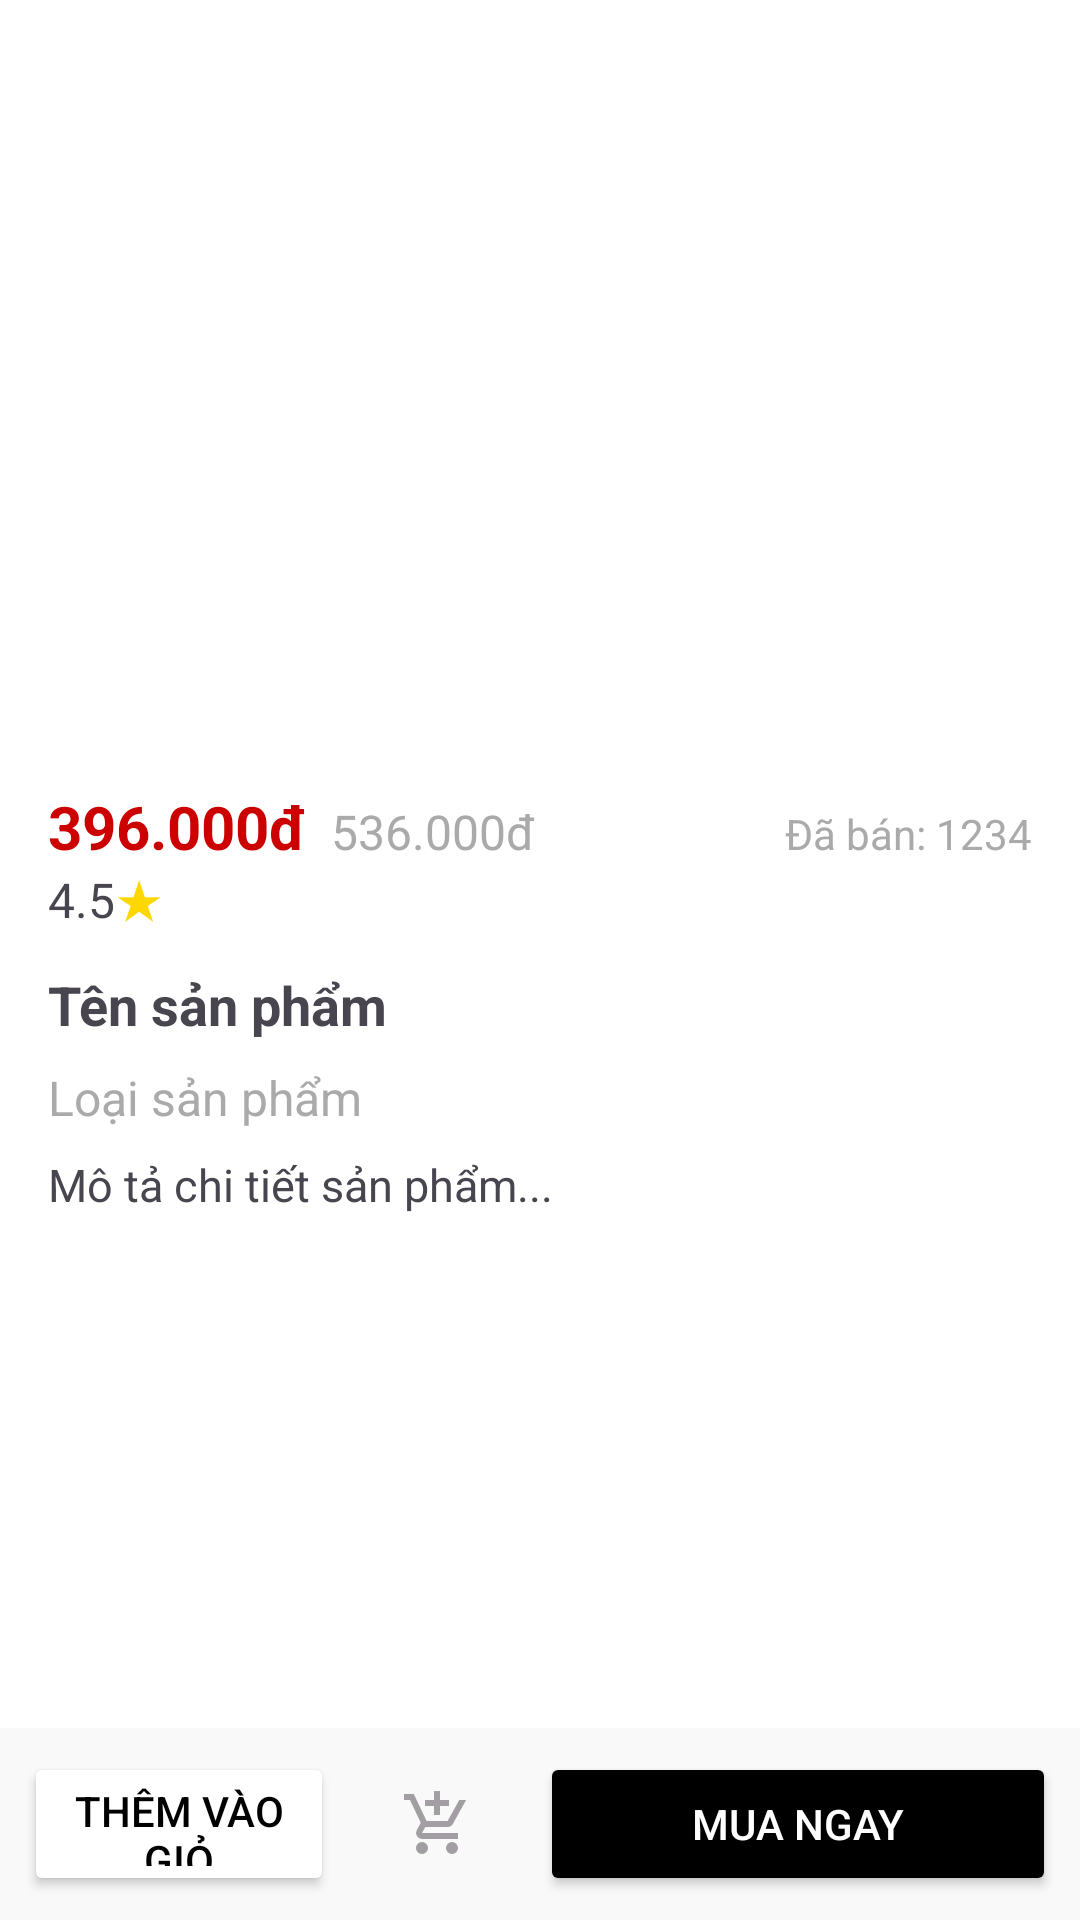

Screen size 1080x1920. Icon name, then its box in pixels as bbox=[x1, y1, x2, y2]:
add shopping cart: bbox=[404, 1791, 466, 1854]
